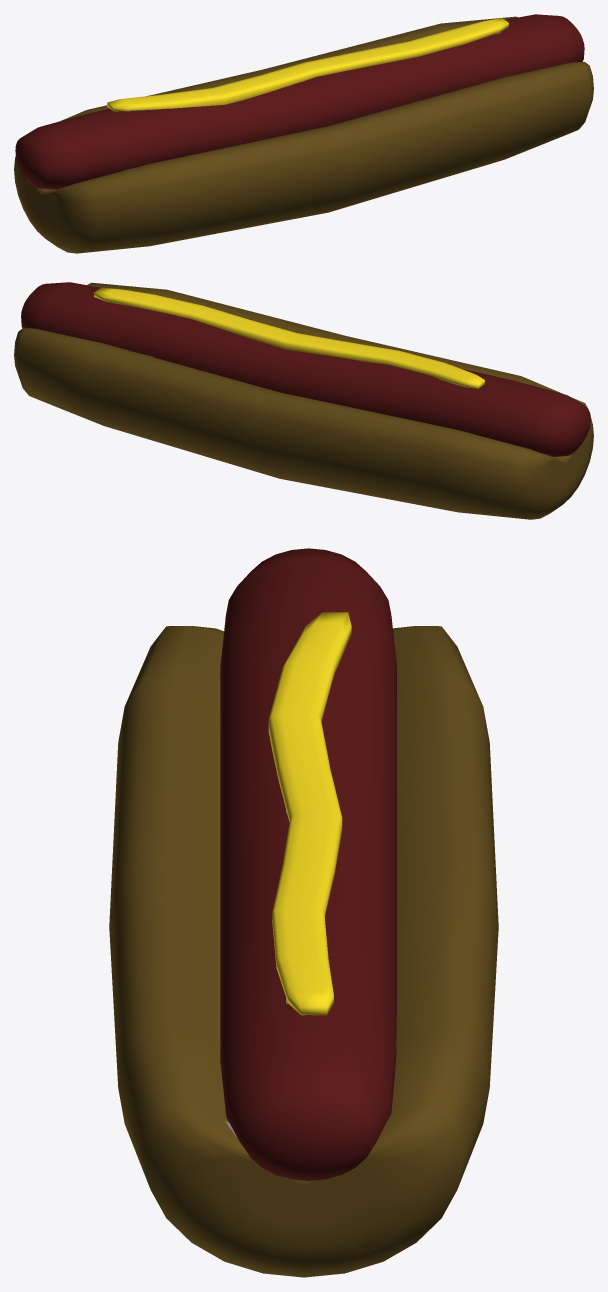
Rendered from Hot dog.fbx.
3 views of the same model, one above another, from view 1: azimuth 30°, elevation 25°; view 2: azimuth 150°, elevation 25°; view 3: azimuth 270°, elevation 25° (orthographic). The views are drawn at different scales.
Parts seen in each view (by area): view 1: Cylinder007; view 2: Cylinder007; view 3: Cylinder007.
Boxes of the visible parts, left/top/right/bottom form: Cylinder007: left=14, top=14, right=593, bottom=253; Cylinder007: left=14, top=282, right=593, bottom=519; Cylinder007: left=109, top=548, right=498, bottom=1277.
Size of the model in its own units: 9.1 by 2.19 by 2.76.
